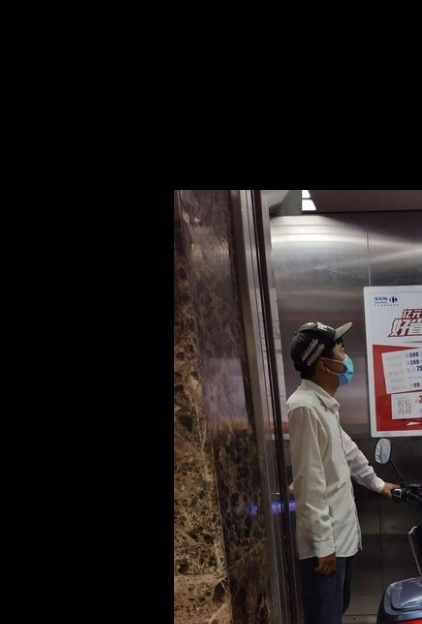ebike: (373, 439, 422, 624)
person: (284, 321, 394, 619)
